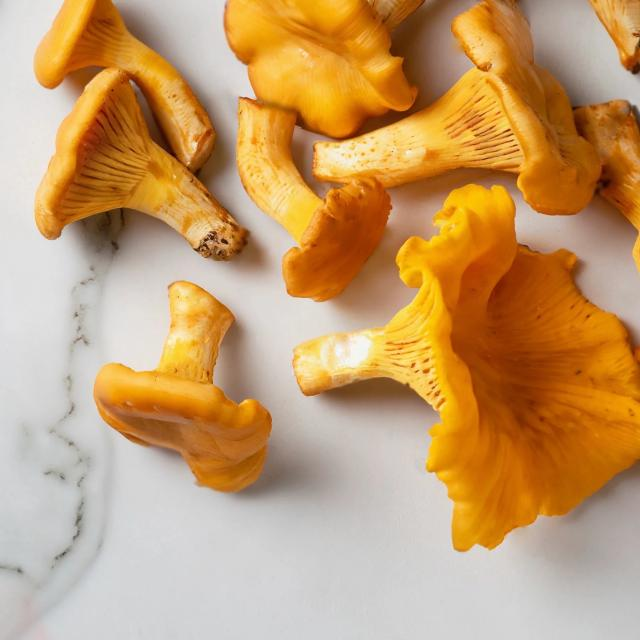chanterelle: (289, 181, 640, 554), (311, 0, 602, 217), (34, 68, 250, 262), (93, 282, 272, 495), (236, 97, 393, 304), (33, 0, 216, 174)
